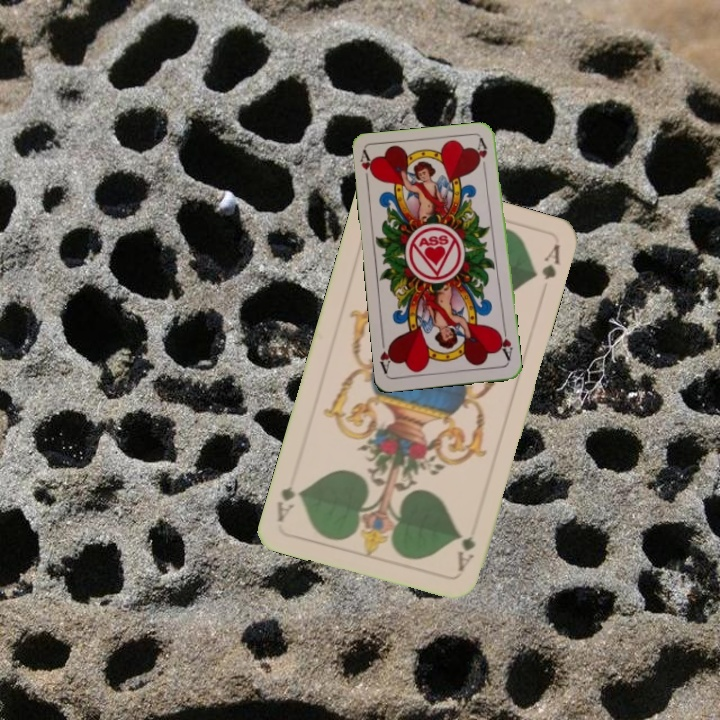GA: (453, 527, 478, 574)
HA: (356, 148, 377, 188), (494, 324, 515, 363)
